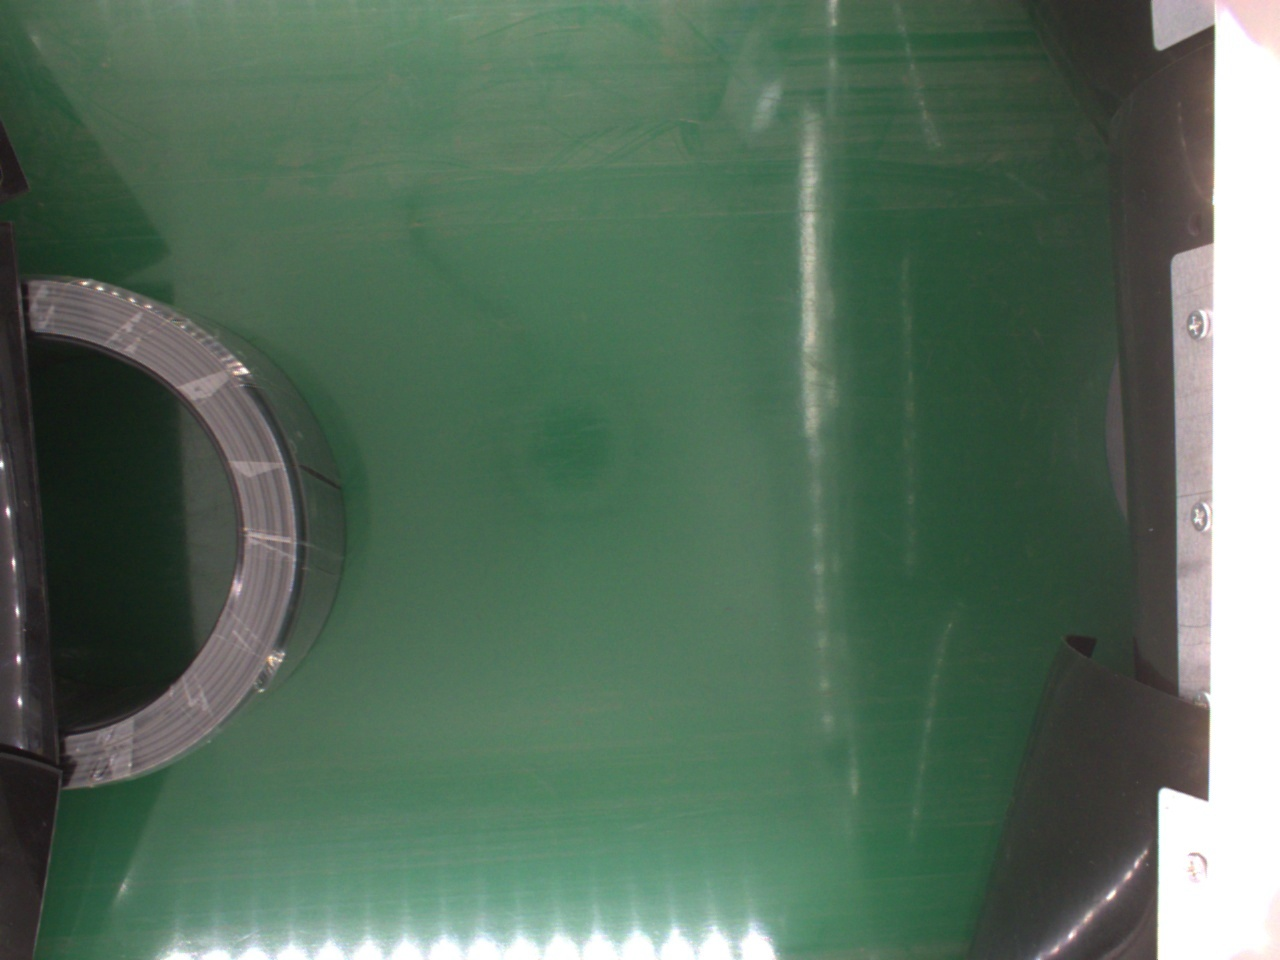black: (34, 270, 344, 790)
